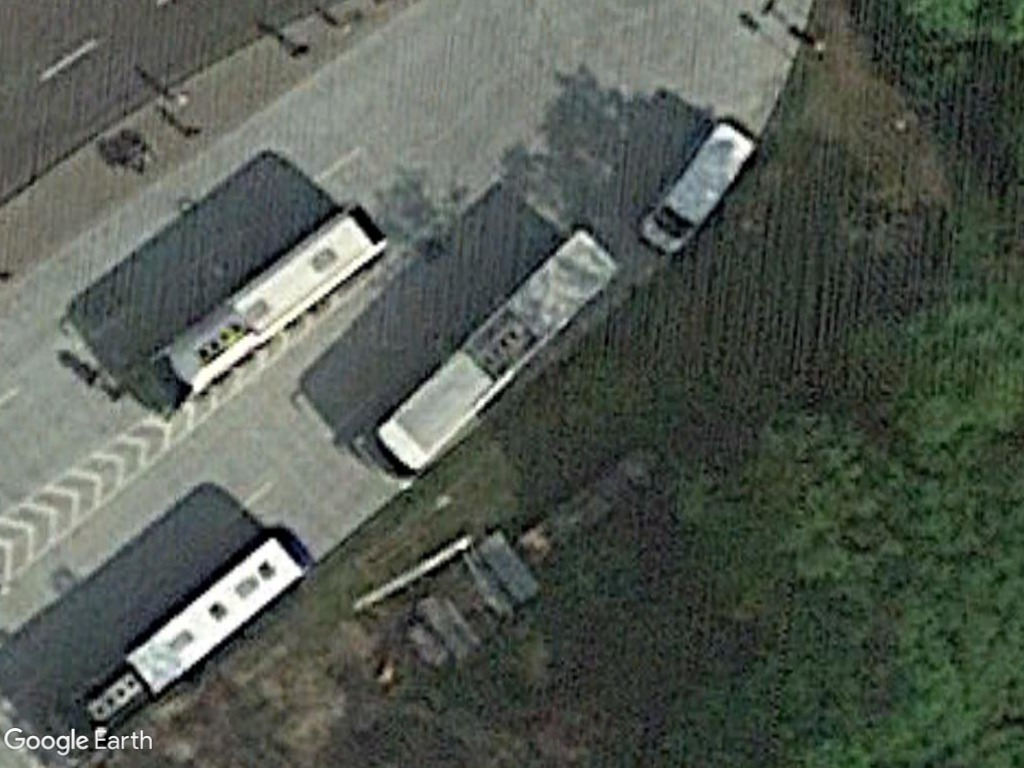bus: (359, 226, 627, 489), (140, 199, 391, 408), (116, 533, 321, 705)
van: (634, 116, 758, 261)
